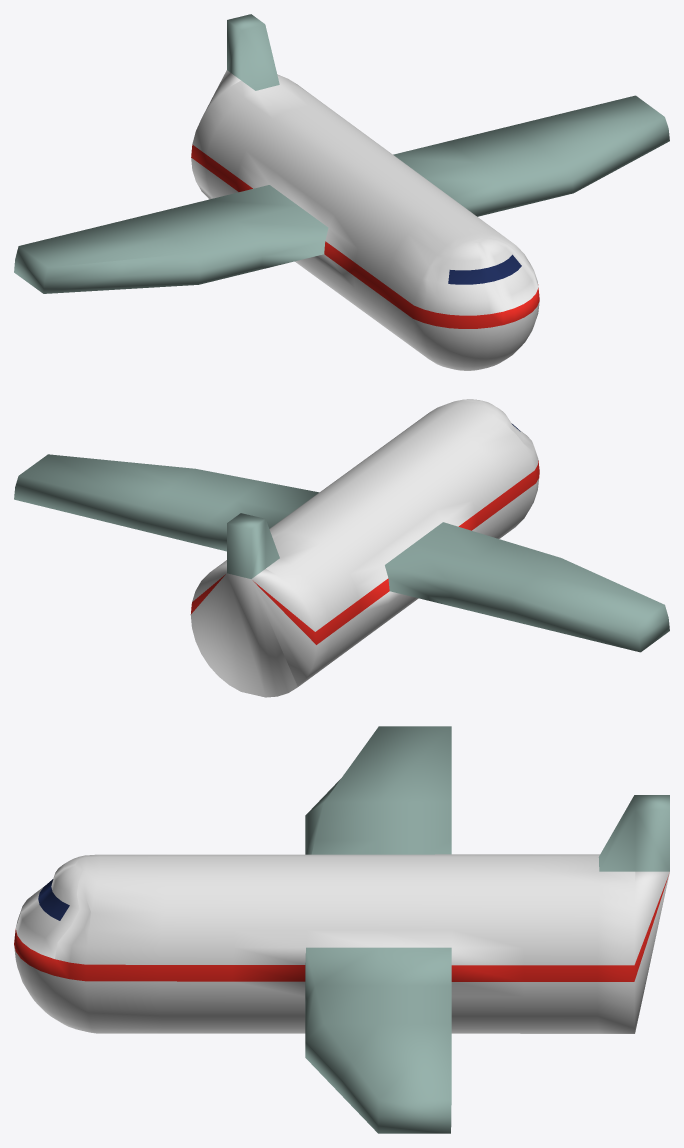
The model's file is Place(Lance).fbx.
The picture shows the model from 3 angles, top to bottom: view 1: azimuth 30°, elevation 25°; view 2: azimuth 150°, elevation 25°; view 3: azimuth 270°, elevation 25°; orthographic projection. The views are drawn at different scales.
Visible parts, largest first — view 1: Sphere; view 2: Sphere; view 3: Sphere.
Part boxes in pixels (bbox=[...]): Sphere: bbox=[14, 14, 669, 370]; Sphere: bbox=[14, 399, 669, 697]; Sphere: bbox=[14, 726, 669, 1133].
Size of the model in its own units: 999 by 272 by 730.
